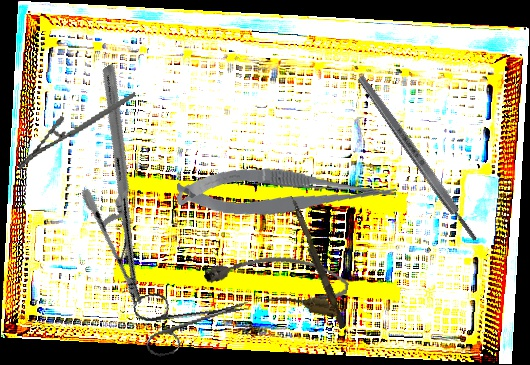Cannula: (201, 240, 352, 320)
Iris Scissors: (131, 272, 257, 361)
Micro Scissor: (175, 159, 398, 230)
Needle Holder: (9, 63, 236, 308), (8, 92, 146, 170)
Pusher: (284, 194, 350, 330)
Scalpel Handle: (356, 73, 480, 244)
